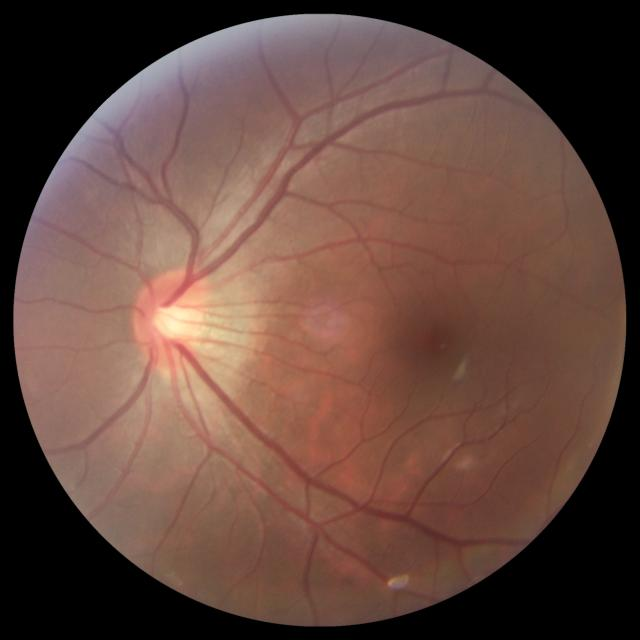OC: (150, 302, 192, 340)
OD: (134, 269, 210, 371)
